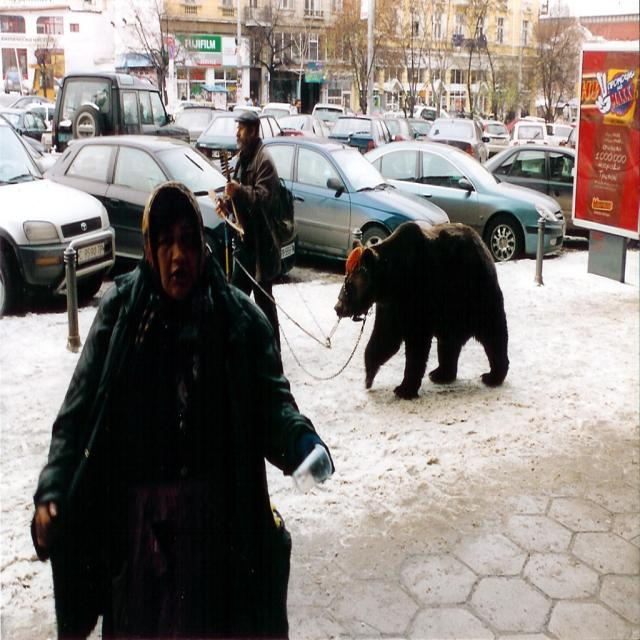Buffalo: (333, 220, 507, 400)
